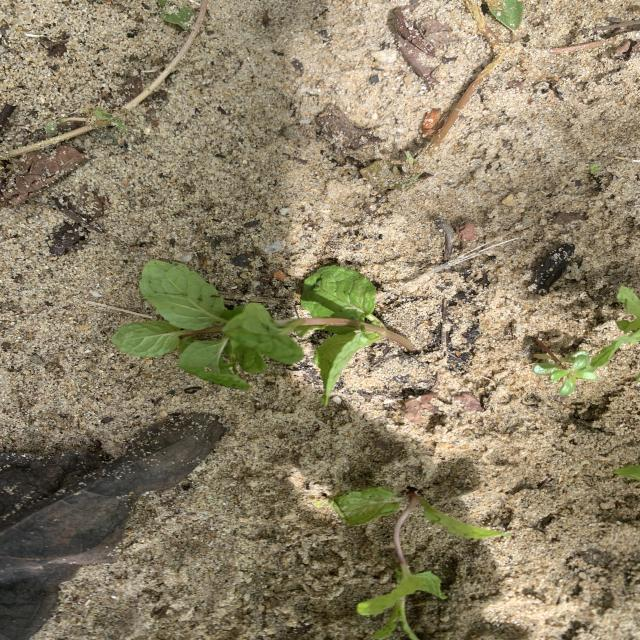crop: (113, 261, 419, 405), (332, 487, 502, 640), (590, 286, 640, 368)
weed: (533, 338, 596, 395), (84, 107, 128, 133), (354, 204, 375, 212), (589, 165, 601, 177), (295, 205, 317, 211), (279, 206, 291, 210), (334, 206, 341, 210), (324, 207, 333, 210)
